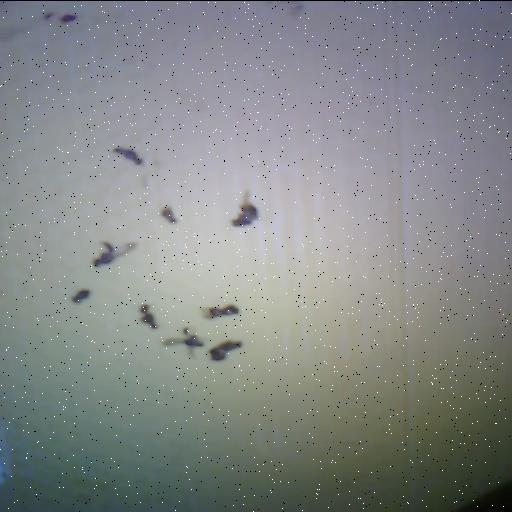Insects: (162, 326, 203, 356), (93, 241, 136, 266), (230, 191, 258, 225), (209, 340, 241, 359), (201, 303, 239, 318), (113, 147, 142, 163), (141, 303, 156, 328)
dust: (71, 288, 90, 302), (283, 0, 302, 13), (160, 207, 175, 221), (60, 13, 76, 21), (44, 12, 53, 19)
